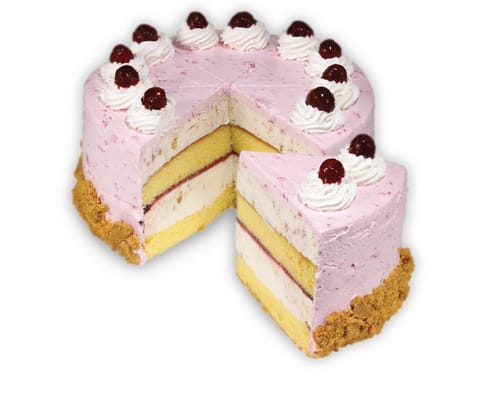sushi: (10, 17, 416, 367), (69, 15, 386, 269), (233, 144, 415, 359)
